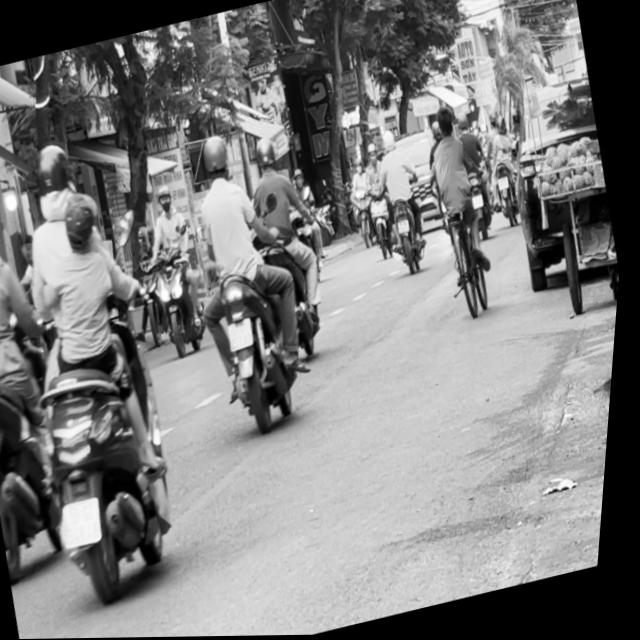helmet: (26, 137, 82, 216), (197, 131, 235, 184), (252, 136, 281, 174), (154, 181, 176, 214), (0, 188, 5, 259)
licenseplate: (0, 125, 226, 613), (159, 118, 336, 443), (0, 179, 108, 581), (226, 127, 349, 367), (130, 178, 223, 360)
motorcyclist: (58, 195, 104, 254)
nohelmet: (61, 494, 112, 547), (227, 318, 259, 352), (0, 423, 9, 457)
